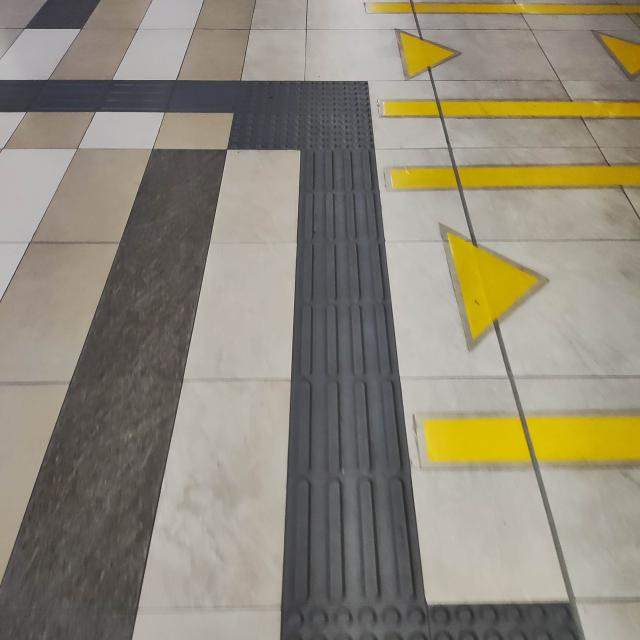kiri: (149, 46, 421, 192)
